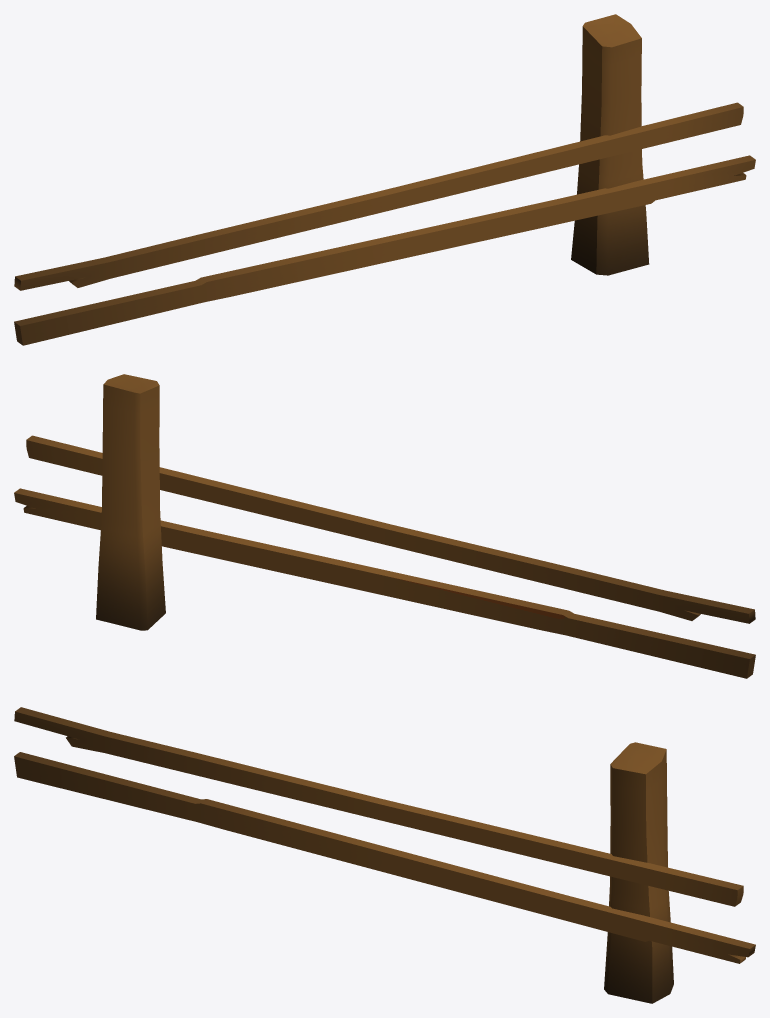
The model's file is RoadFenceWood_Lrg-04.FBX.
3 views of the same model, one above another, from view 1: azimuth 30°, elevation 25°; view 2: azimuth 150°, elevation 25°; view 3: azimuth 330°, elevation 25° (orthographic).
Visible parts, largest first — view 1: RoadFenceWood_Lrg-04; view 2: RoadFenceWood_Lrg-04; view 3: RoadFenceWood_Lrg-04.
Part boxes in pixels (box(x1,y1,x2,y2)): RoadFenceWood_Lrg-04: box(14, 14, 755, 345); RoadFenceWood_Lrg-04: box(14, 374, 755, 678); RoadFenceWood_Lrg-04: box(14, 707, 755, 1003).
Size of the model in its own units: 460 by 140 by 33.04.
1 material, 1 textured.
